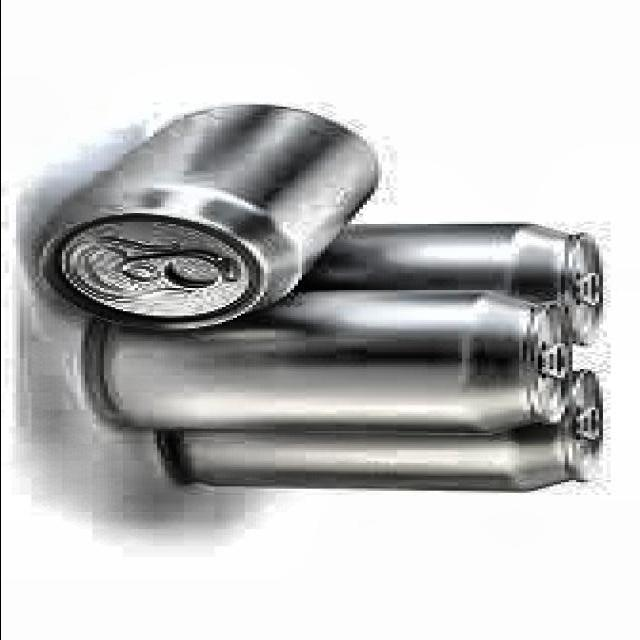litter: (25, 102, 384, 335), (78, 287, 580, 437), (159, 366, 609, 494), (258, 221, 609, 350)
